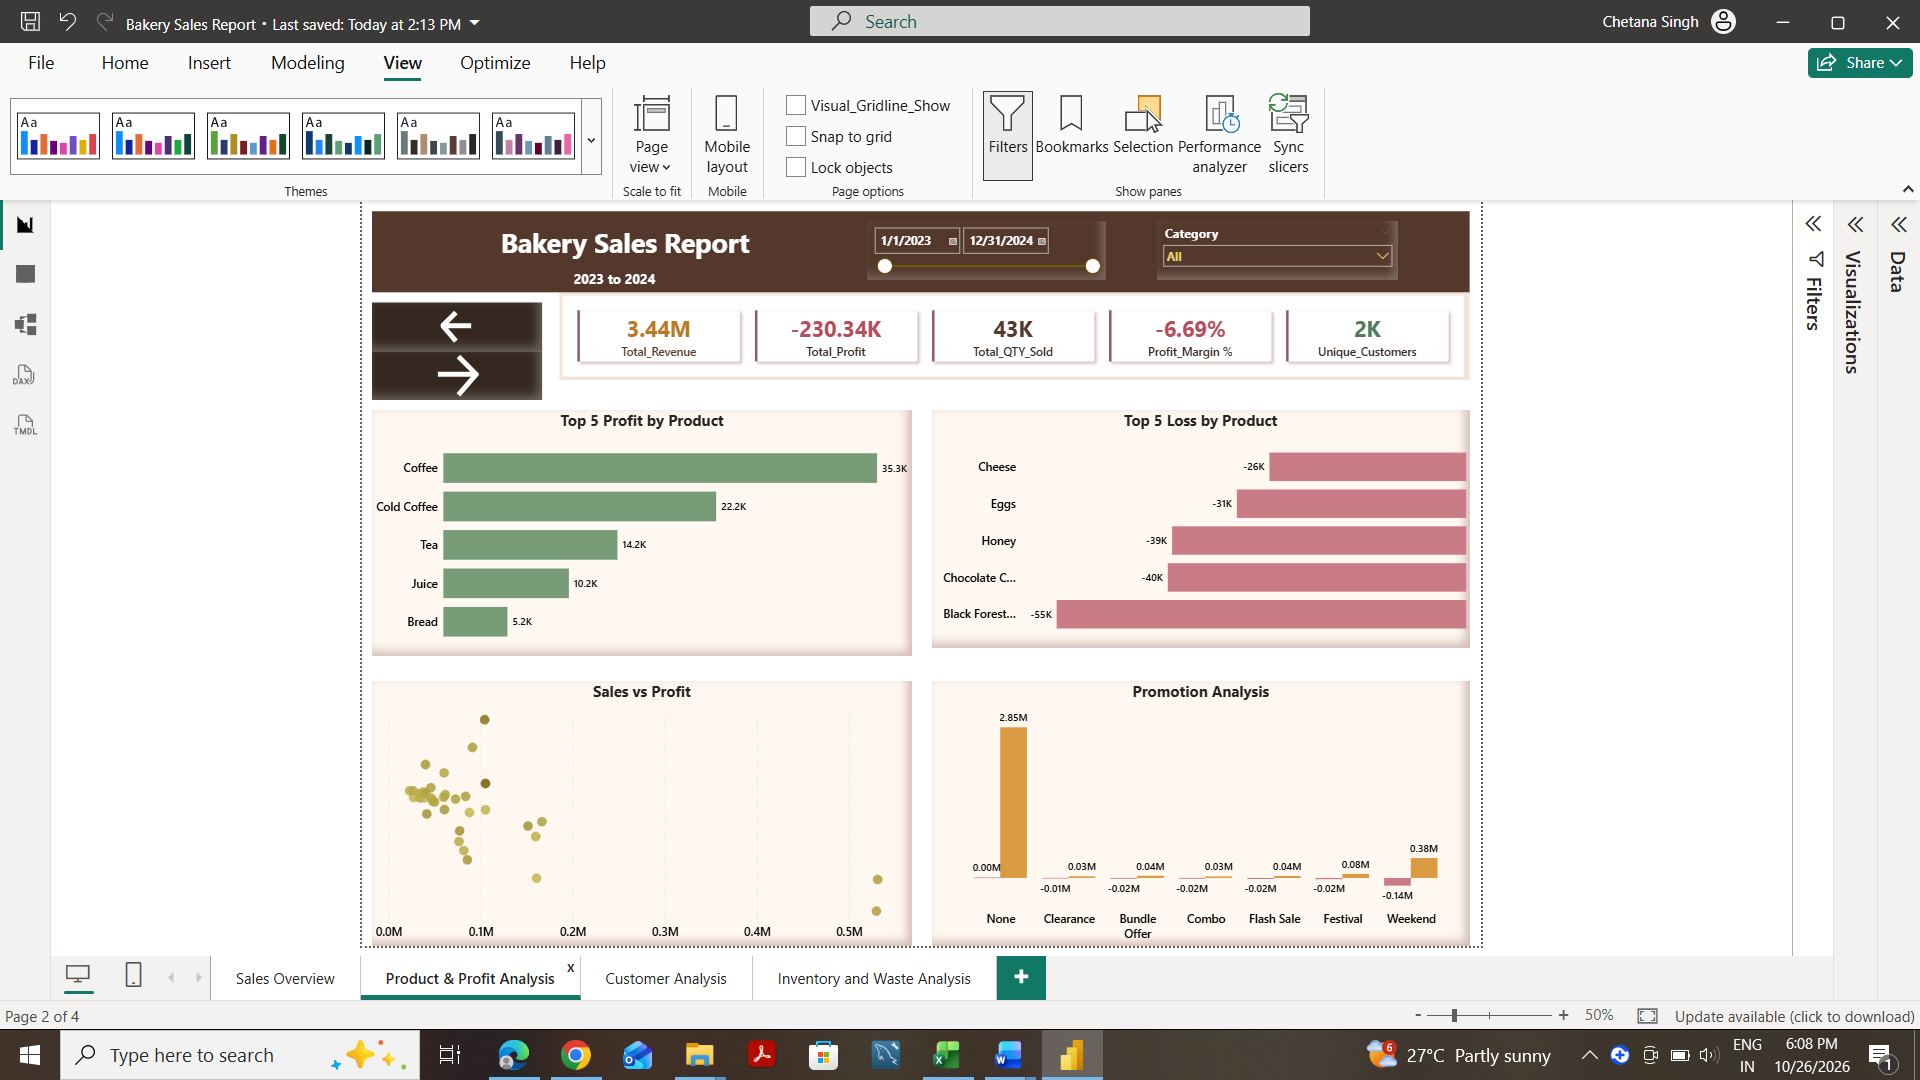

The page's visual inventory and layout, read from the dashboard file:
{"tool":"powerbi","page":{"name":"Product & Profit Analysis","canvas":[1800,1200],"ordinal":1},"visuals":[{"type":"cardVisual","fields":{"Data":["bakery_sales bakery_dataset.Total_Revenue","bakery_sales bakery_dataset.Total_Profit","bakery_sales bakery_dataset.Total_QTY_Sold","bakery_sales bakery_dataset.Profit_Margin","bakery_sales bakery_dataset.Unique_Customers"]},"box":[317.7,148.8,1463.8,140.8],"z":0},{"type":"textbox","box":[16.1,18.1,1765.4,130.7],"z":1000},{"type":"textbox","box":[50.3,34.2,746,74.4],"z":2000},{"type":"textbox","box":[261.4,106.6,289.5,42.2],"z":3000},{"type":"barChart","title":"Top 5 Profit by Product","fields":{"Category":["bakery_sales bakery_dataset.Product"],"Y":["Sum(bakery_sales bakery_dataset.Profit)"]},"box":[16.1,337.8,868.6,396.1],"z":4000},{"type":"clusteredColumnChart","title":"Promotion Analysis","fields":{"Y":["Sum(bakery_sales bakery_dataset.Profit)","Sum(bakery_sales bakery_dataset.Total_Bill)"],"Category":["bakery_sales bakery_dataset.Promotion_Type"]},"box":[916.9,774.1,864.6,426.3],"z":5000},{"type":"textbox","box":[16.1,164.9,273.5,156.8],"z":6000},{"type":"barChart","title":"Top 5 Loss by Product","fields":{"Category":["bakery_sales bakery_dataset.Product"],"Y":["Sum(bakery_sales bakery_dataset.Profit)"]},"box":[916.9,337.8,864.6,382],"z":7000},{"type":"scatterChart","title":"Sales vs Profit","fields":{"X":["bakery_sales bakery_dataset.Total_Bill"],"Category":["bakery_sales bakery_dataset.Product"],"Y":["Sum(bakery_sales bakery_dataset.Profit)"]},"box":[16.1,774.1,868.6,426.3],"z":8000},{"type":"slicer","fields":{"Values":["bakery_sales bakery_dataset.Date"]},"box":[812.3,34.2,384.1,94.5],"z":9000},{"type":"slicer","fields":{"Values":["bakery_sales bakery_dataset.Category"]},"box":[1278.8,34.2,388.1,94.5],"z":10000},{"type":"actionButton","box":[16.1,164.9,273.5,78.4],"z":11000},{"type":"actionButton","box":[16.1,243.3,273.5,78.4],"z":12000}]}

Visuals, with their boxes on the page's 1800x1200 design canvas (x1, y1, x2, y2). These are canvas units, not pixel positions in the 1920x1080 screenshot, which may show the page scaled, cropped or inside an application window:
cardVisual - bakery_sales bakery_dataset.Total_Revenue x bakery_sales bakery_dataset.Total_Profit: box(318, 149, 1782, 290)
textbox: box(16, 18, 1782, 149)
textbox: box(50, 34, 796, 109)
textbox: box(261, 107, 551, 149)
"Top 5 Profit by Product" barChart: box(16, 338, 885, 734)
"Promotion Analysis" clusteredColumnChart: box(917, 774, 1782, 1200)
textbox: box(16, 165, 290, 322)
"Top 5 Loss by Product" barChart: box(917, 338, 1782, 720)
"Sales vs Profit" scatterChart: box(16, 774, 885, 1200)
slicer - bakery_sales bakery_dataset.Date: box(812, 34, 1196, 129)
slicer - bakery_sales bakery_dataset.Category: box(1279, 34, 1667, 129)
actionButton: box(16, 165, 290, 243)
actionButton: box(16, 243, 290, 322)
